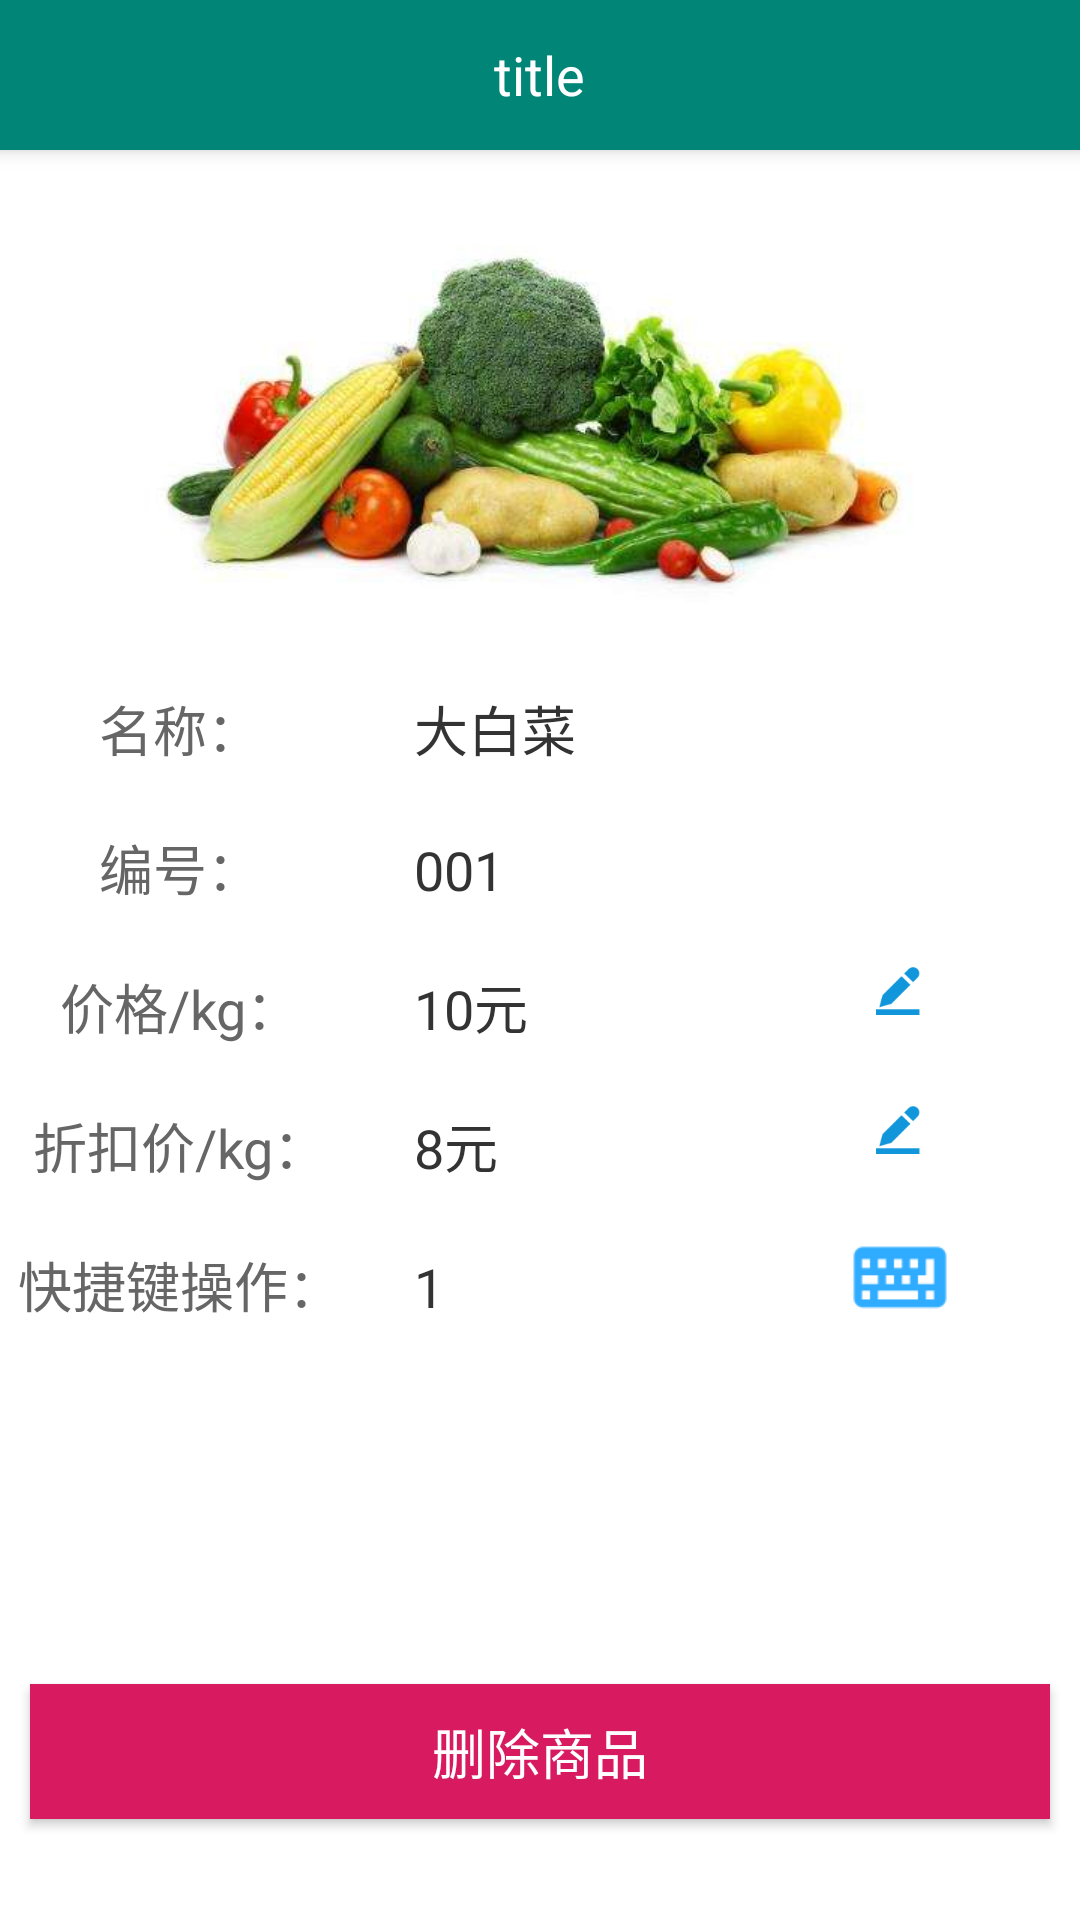

Locate icon controls on the screen. Image size 1080 × 1920, boxes as bbox(x1, y1, x2, y2).
key: bbox(853, 1246, 947, 1309)
xiugai: bbox(876, 967, 920, 1015), bbox(876, 1106, 920, 1154)
